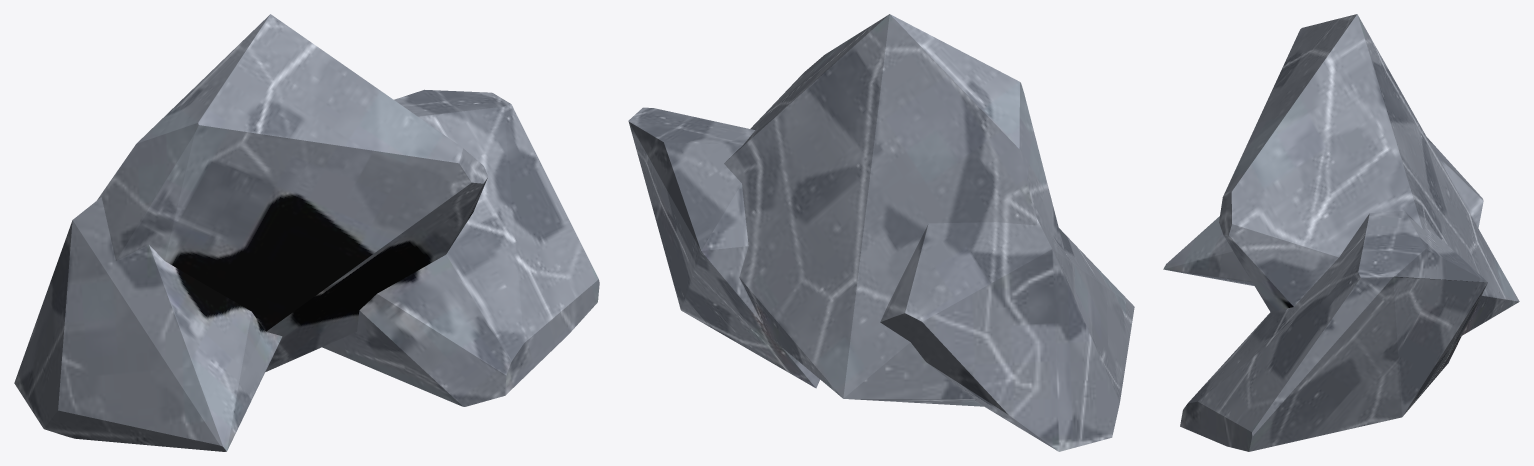
Rendered from res_iron_ore_low.glb.
3 renders of one model, left to right at view 1: azimuth 30°, elevation 25°; view 2: azimuth 150°, elevation 25°; view 3: azimuth 270°, elevation 25°, orthographic. The views are drawn at different scales.
Parts seen in each view (by area): view 1: res_iron_ore_low; view 2: res_iron_ore_low; view 3: res_iron_ore_low.
Part boxes in pixels (x1,y1,x2,y2): res_iron_ore_low: [14, 14, 599, 451]; res_iron_ore_low: [628, 14, 1134, 451]; res_iron_ore_low: [1163, 14, 1519, 451].
Size of the model in its own units: 0.86 by 0.5994 by 0.5431.
Materials: 1 (1 with a texture image).
